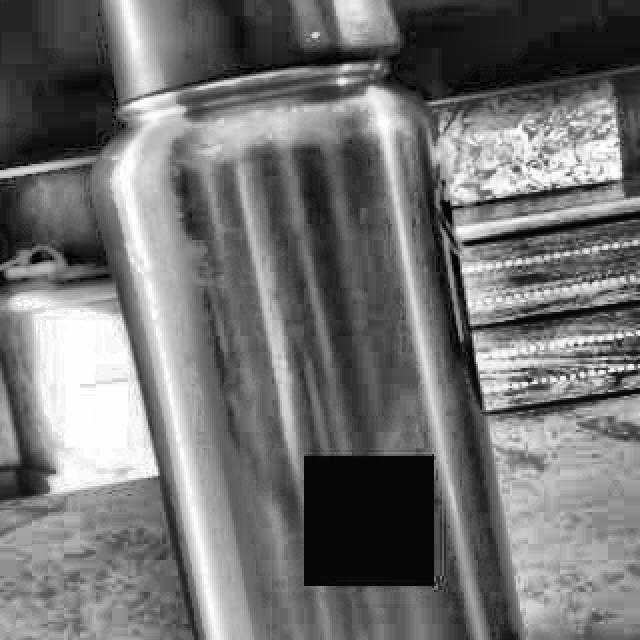bottle: (92, 0, 525, 640)
